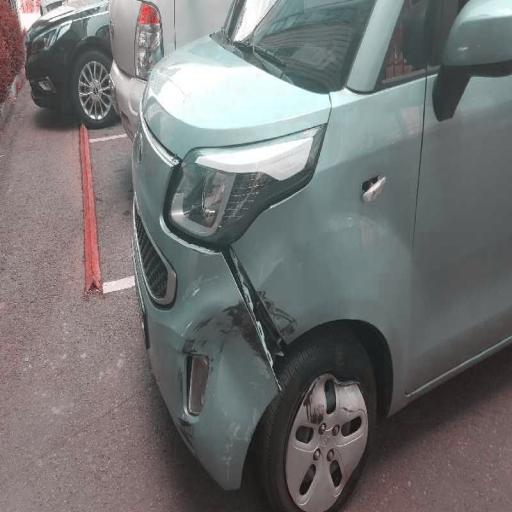broken: (212, 226, 314, 408)
dent: (165, 294, 234, 444)
